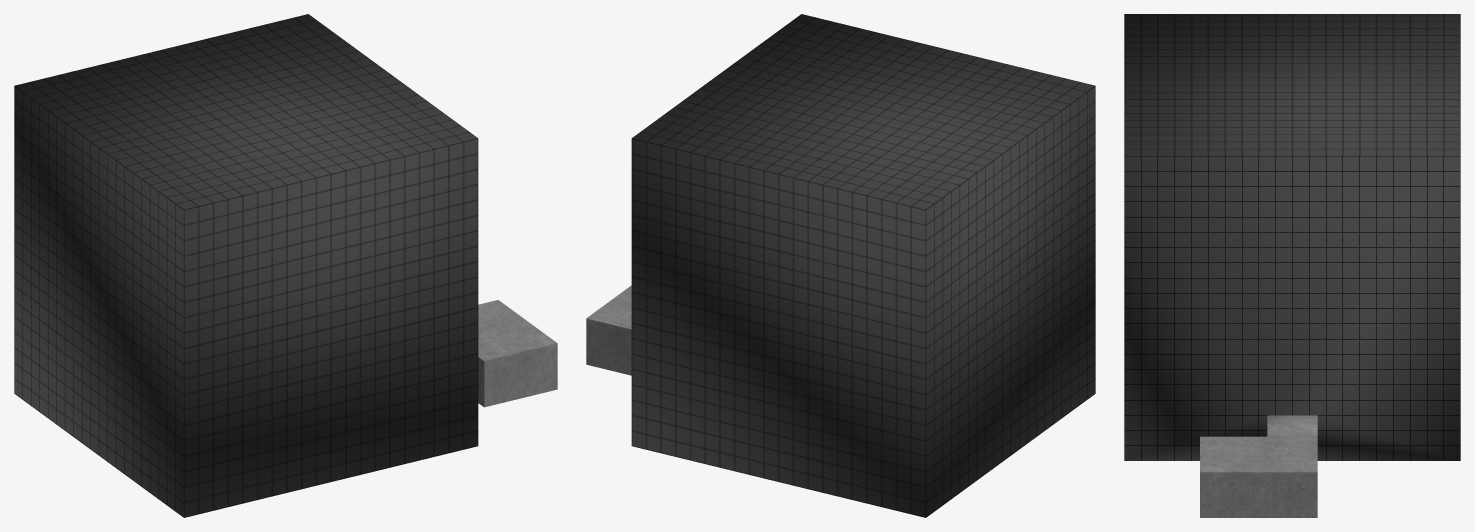
The model's file is Greenroom_Level.fbx.
3 views of the same model, side by side, from view 1: azimuth 30°, elevation 25°; view 2: azimuth 150°, elevation 25°; view 3: azimuth 270°, elevation 25° (orthographic).
Parts seen in each view (by area): view 1: Greenscreen; view 2: Greenscreen; view 3: Greenscreen.
Boxes of the visible parts, x1,y1,x2,y2 form: Greenscreen: [14, 14, 557, 517]; Greenscreen: [586, 14, 1095, 517]; Greenscreen: [1124, 14, 1460, 517].
Size of the model in its own units: 2800 by 2000 by 2000.
